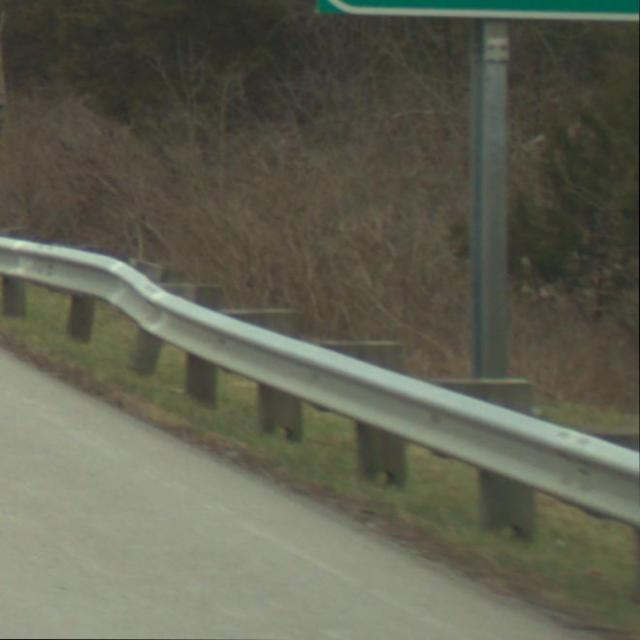Guard rail: (0, 219, 640, 587)
